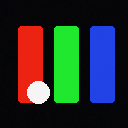2 circle: (27, 81, 49, 103)
